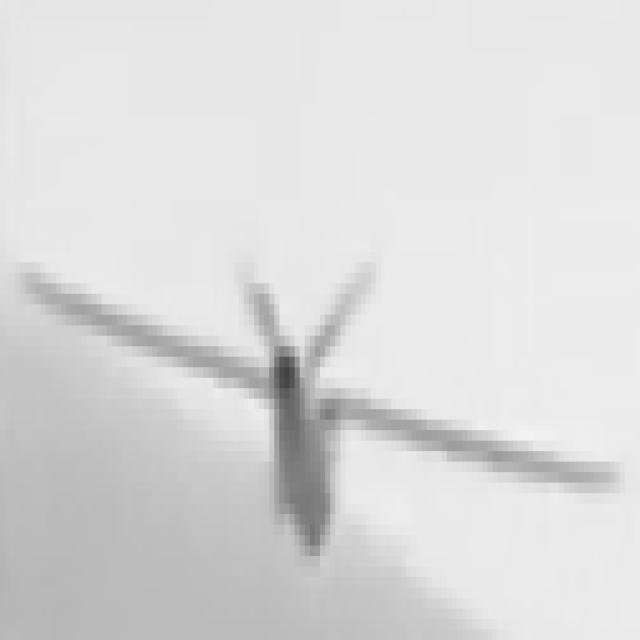iha: (36, 273, 610, 535)
